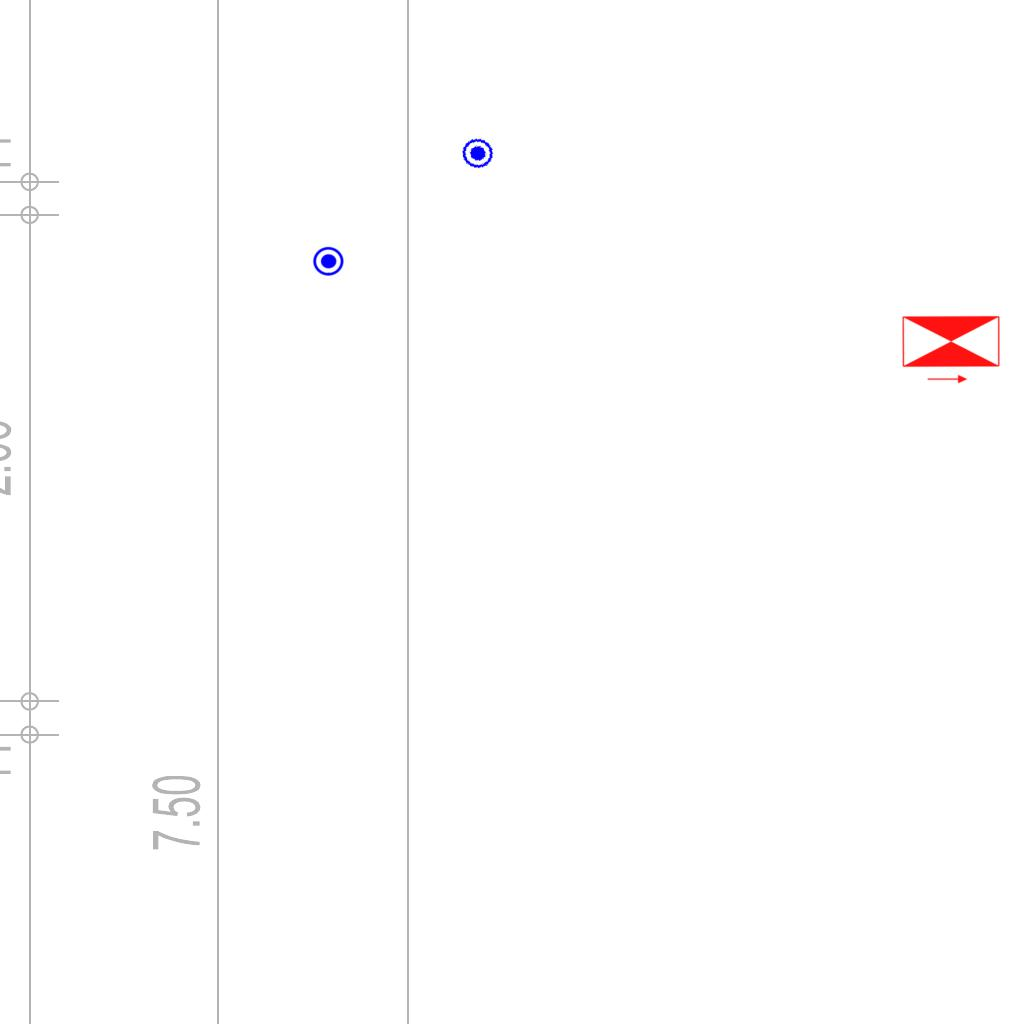Fluchtwegpiktogramm: (899, 313, 1003, 386)
Taster: (457, 134, 498, 175), (312, 246, 345, 279)
